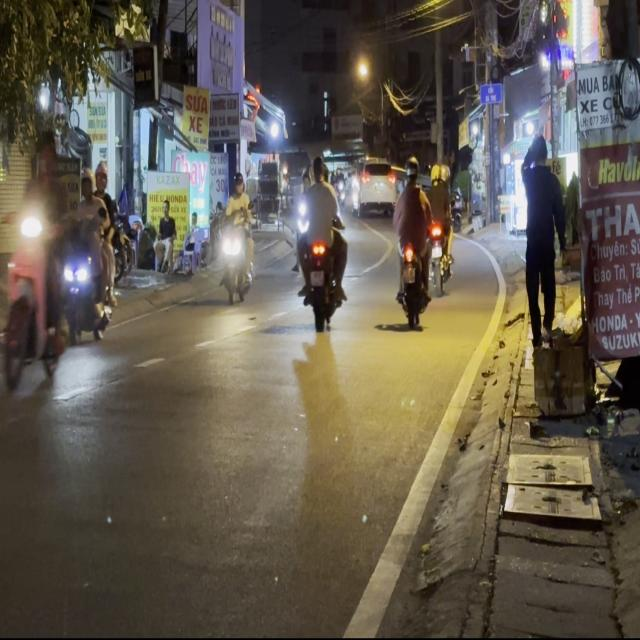licenseplate: (1, 130, 82, 416)
